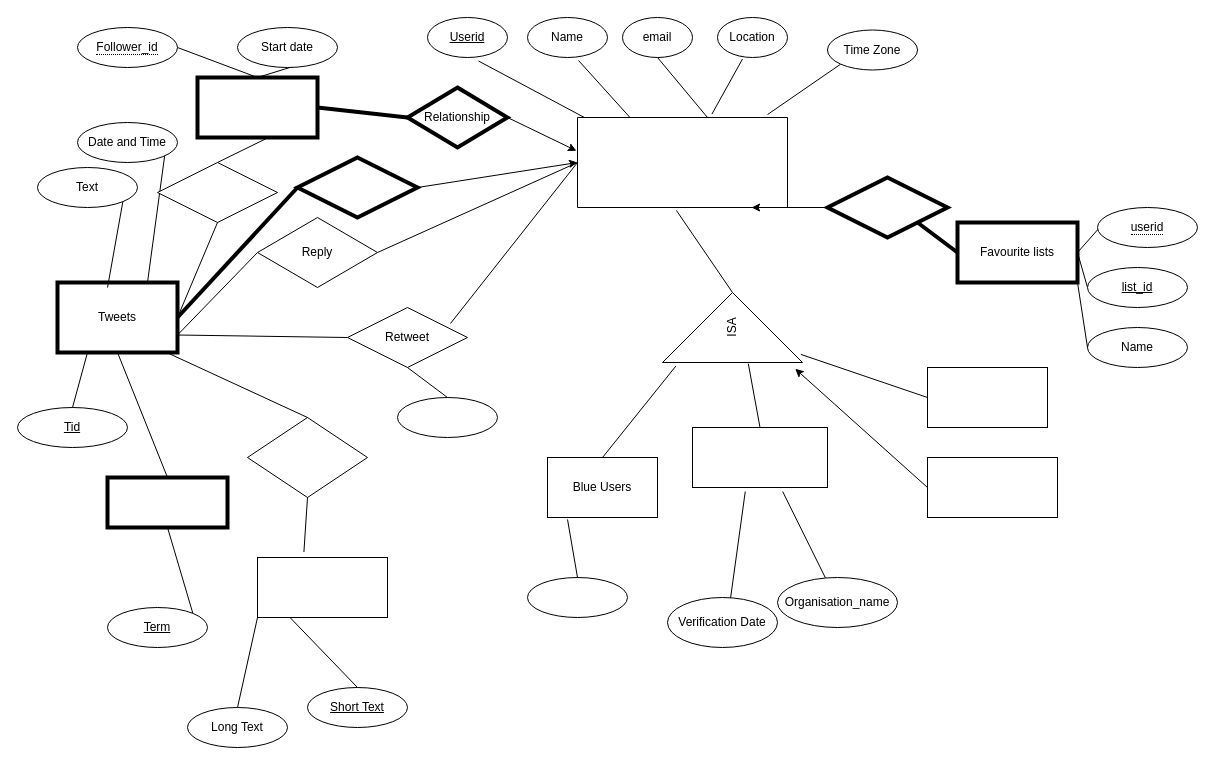
Image size: 1215x765. Some labels were removed from this diagram. Here are the shapes that lost their labels. From the top down, the box of each, then its label:
(195, 75, 319, 139): Follow
(576, 116, 788, 208): USERS
(156, 162, 278, 222): Subscribe
(295, 155, 419, 219): Write
(825, 175, 949, 239): create
(396, 396, 498, 438): Date
(926, 366, 1048, 428): No Label
(246, 416, 368, 498): Mention
(692, 426, 828, 488): Grey Users
(105, 475, 229, 529): Hashtag
(926, 456, 1058, 518): Bots
(256, 556, 388, 618): URL
(526, 576, 628, 618): Credit card No.
